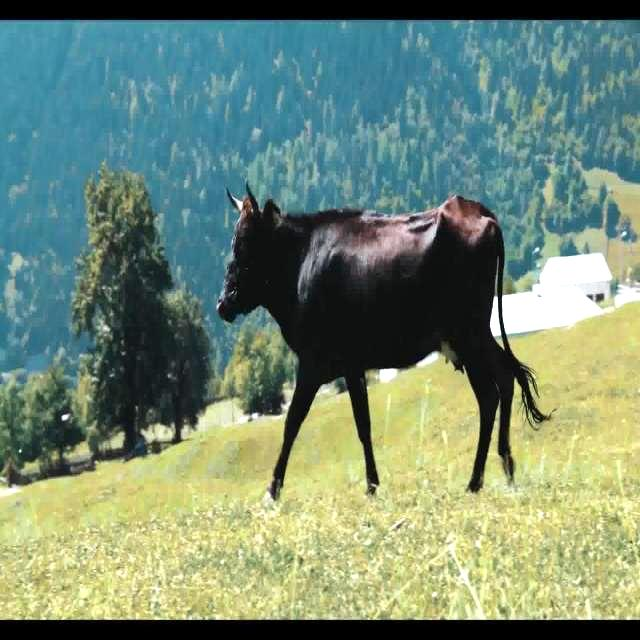COW: (218, 190, 548, 498)
